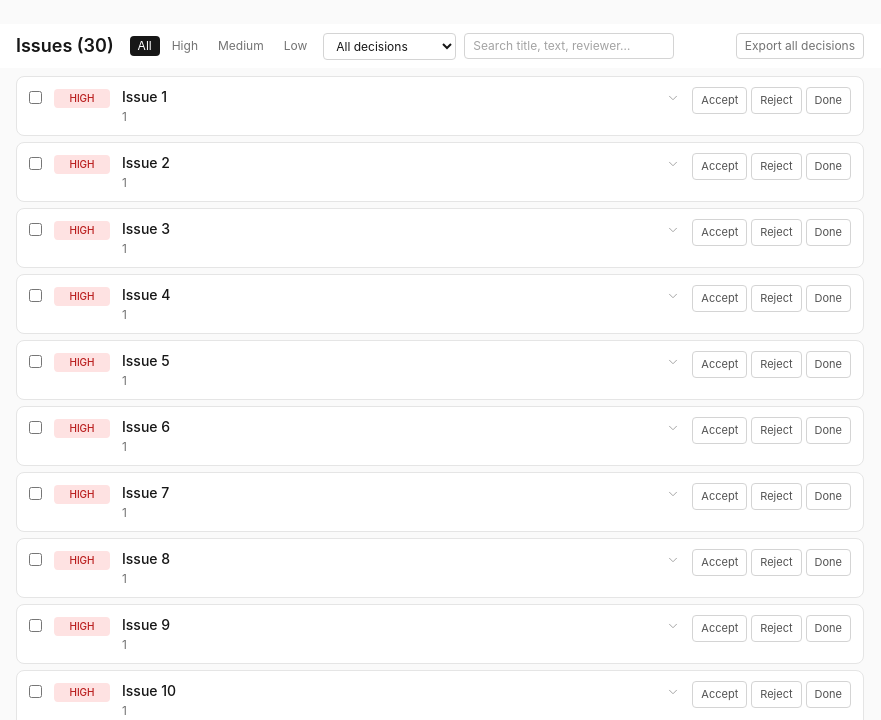
Test: IssuesTable sticky controls › keeps filters and errors on top and the bulk bar below the rows
The width and height of the screenshot is (881, 720).
Click the button "Export all decisions".
click(800, 46)  # box [736, 33, 864, 59]
(page scrolled)
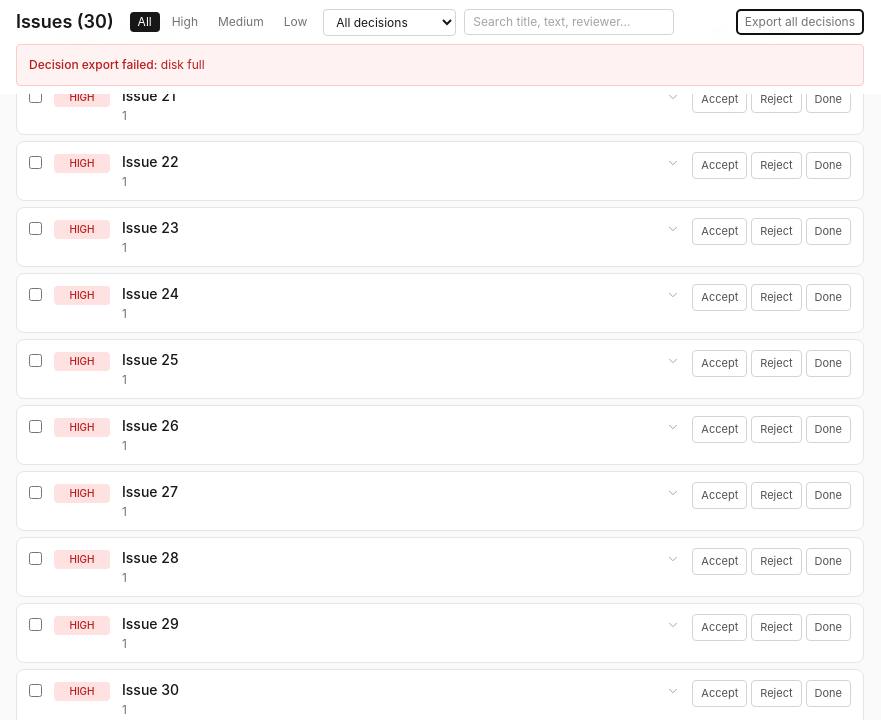
Click the checkbox named "Select issue: Issue 25".
click(36, 360)  # box [29, 354, 42, 367]
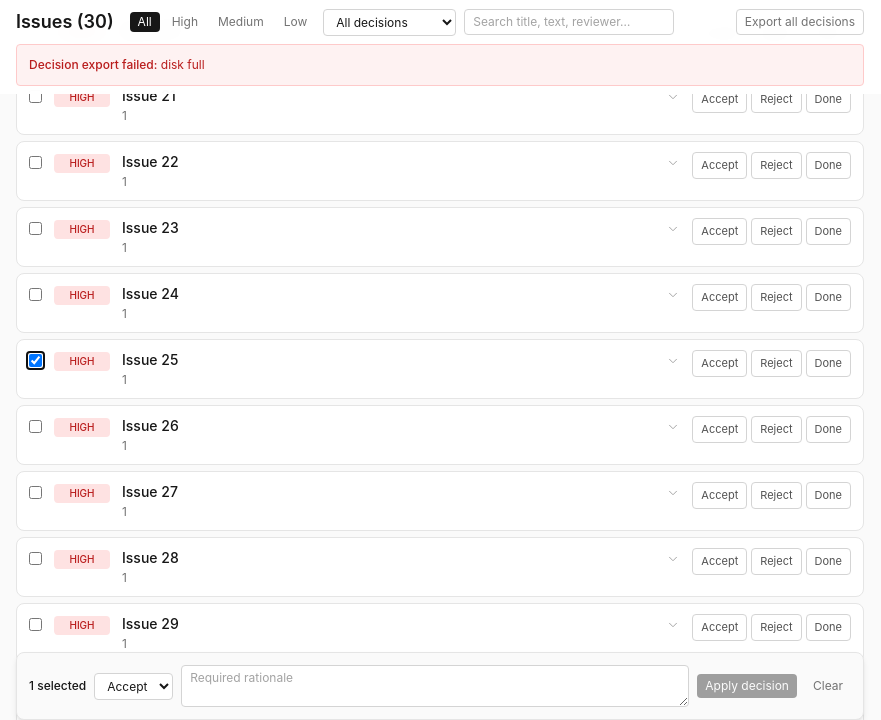
Result: the element named "Decision for selected issues" shows "1 selected" at [16, 652, 864, 719]
